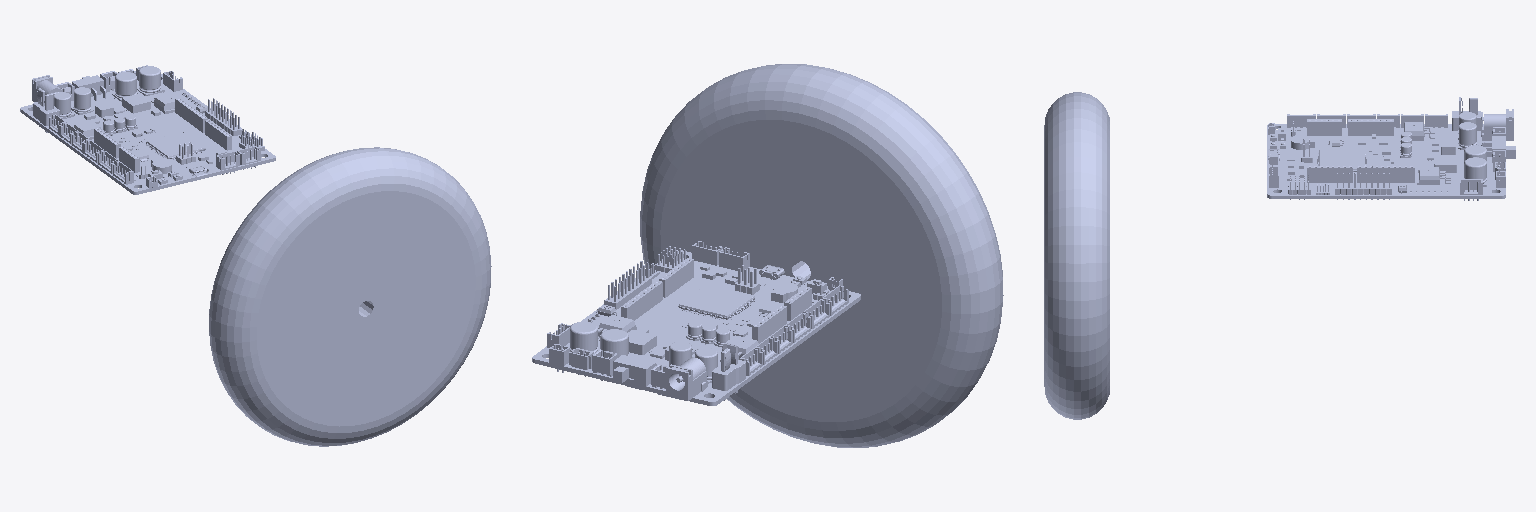
URDF robot description (어셈블리1):
<?xml version="1.0" encoding="utf-8"?>
<!-- This URDF was automatically created by SolidWorks to URDF Exporter! Originally created by [author] ([email redacted]) 
     Commit Version: 1.6.0-1-g15f4949  Build Version: 1.6.7594.29634
     For more information, please see http://wiki.ros.org/sw_urdf_exporter -->
<robot
  name="어셈블리1">
  <link
    name="base_link">
    <inertial>
      <origin
        xyz="-0.0132871229028094 -0.0190872156314789 -0.0165094953014788"
        rpy="0 0 0" />
      <mass
        value="3.79600627082132" />
      <inertia
        ixx="0.00950873308951061"
        ixy="-4.41730297888478E-05"
        ixz="-0.000344061860957029"
        iyy="0.015823556089242"
        iyz="-0.000165763768209665"
        izz="0.00921479103261655" />
    </inertial>
    <visual>
      <origin
        xyz="0 0 0"
        rpy="0 0 0" />
      <geometry>
        <mesh
          filename="package://어셈블리1/meshes/base_link.STL" />
      </geometry>
      <material
        name="">
        <color
          rgba="0.792156862745098 0.819607843137255 0.933333333333333 1" />
      </material>
    </visual>
    <collision>
      <origin
        xyz="0 0 0"
        rpy="0 0 0" />
      <geometry>
        <mesh
          filename="package://어셈블리1/meshes/base_link.STL" />
      </geometry>
    </collision>
  </link>
  <link
    name="opencr_link">
    <inertial>
      <origin
        xyz="0.0180007095539802 -0.018114560187332 -0.00970352267675567"
        rpy="0 0 0" />
      <mass
        value="5.55801093857231" />
      <inertia
        ixx="0.0702910169590417"
        ixy="0.00177365412889999"
        ixz="-0.00174438824817206"
        iyy="0.0556214725394112"
        iyz="7.33898971713756E-05"
        izz="0.0859284870938966" />
    </inertial>
    <visual>
      <origin
        xyz="0 0 0"
        rpy="0 0 0" />
      <geometry>
        <mesh
          filename="package://어셈블리1/meshes/opencr_link.STL" />
      </geometry>
      <material
        name="">
        <color
          rgba="0.792156862745098 0.819607843137255 0.933333333333333 1" />
      </material>
    </visual>
    <collision>
      <origin
        xyz="0 0 0"
        rpy="0 0 0" />
      <geometry>
        <mesh
          filename="package://어셈블리1/meshes/opencr_link.STL" />
      </geometry>
    </collision>
  </link>
  <joint
    name="opencr_joint"
    type="fixed">
    <origin
      xyz="0 0 0"
      rpy="0 0 -3.1416" />
    <parent
      link="base_link" />
    <child
      link="opencr_link" />
    <axis
      xyz="0 0 0" />
  </joint>
  <link
    name="lidar_link">
    <inertial>
      <origin
        xyz="1.3394E-08 1.1116E-09 0.029386"
        rpy="0 0 0" />
      <mass
        value="0.13177" />
      <inertia
        ixx="6.9567E-05"
        ixy="-9.5937E-12"
        ixz="-5.2972E-11"
        iyy="6.9567E-05"
        iyz="-4.3961E-12"
        izz="4.4764E-05" />
    </inertial>
    <visual>
      <origin
        xyz="0 0 0"
        rpy="0 0 0" />
      <geometry>
        <mesh
          filename="package://어셈블리1/meshes/lidar_link.STL" />
      </geometry>
      <material
        name="">
        <color
          rgba="0.79216 0.81961 0.93333 1" />
      </material>
    </visual>
    <collision>
      <origin
        xyz="0 0 0"
        rpy="0 0 0" />
      <geometry>
        <mesh
          filename="package://어셈블리1/meshes/lidar_link.STL" />
      </geometry>
    </collision>
  </link>
  <joint
    name="lidar_joint"
    type="fixed">
    <origin
      xyz="-0.035043 0.0083315 0.077"
      rpy="0 0 0" />
    <parent
      link="base_link" />
    <child
      link="lidar_link" />
    <axis
      xyz="0 0 0" />
  </joint>
  <link
    name="camera_link">
    <inertial>
      <origin
        xyz="-6.5919E-17 -2.4587E-10 0.0165"
        rpy="0 0 0" />
      <mass
        value="0.16688" />
      <inertia
        ixx="2.7222E-05"
        ixy="-2.5726E-19"
        ixz="-3.9561E-19"
        iyy="0.00041211"
        iyz="4.5682E-14"
        izz="0.00040904" />
    </inertial>
    <visual>
      <origin
        xyz="0 0 0"
        rpy="0 0 0" />
      <geometry>
        <mesh
          filename="package://어셈블리1/meshes/camera_link.STL" />
      </geometry>
      <material
        name="">
        <color
          rgba="0.79216 0.81961 0.93333 1" />
      </material>
    </visual>
    <collision>
      <origin
        xyz="0 0 0"
        rpy="0 0 0" />
      <geometry>
        <mesh
          filename="package://어셈블리1/meshes/camera_link.STL" />
      </geometry>
    </collision>
  </link>
  <joint
    name="camera_joint"
    type="fixed">
    <origin
      xyz="-0.13404 0.0083315 0.092"
      rpy="-1.5708 0 1.5708" />
    <parent
      link="base_link" />
    <child
      link="camera_link" />
    <axis
      xyz="0 0 0" />
  </joint>
  <link
    name="left_wheel_link">
    <inertial>
      <origin
        xyz="-4.54497550705923E-16 1.79717352111197E-15 0.0145"
        rpy="0 0 0" />
      <mass
        value="0.431849530870227" />
      <inertia
        ixx="0.000547310482911071"
        ixy="-8.13151629364128E-20"
        ixz="-5.76064820844141E-20"
        iyy="0.000547310482911071"
        iyz="1.70985068972411E-19"
        izz="0.00103898710950625" />
    </inertial>
    <visual>
      <origin
        xyz="0 0 0"
        rpy="0 0 0" />
      <geometry>
        <mesh
          filename="package://어셈블리1/meshes/left_wheel_link.STL" />
      </geometry>
      <material
        name="">
        <color
          rgba="0.792156862745098 0.819607843137255 0.933333333333333 1" />
      </material>
    </visual>
    <collision>
      <origin
        xyz="0 0 0"
        rpy="0 0 0" />
      <geometry>
        <mesh
          filename="package://어셈블리1/meshes/left_wheel_link.STL" />
      </geometry>
    </collision>
  </link>
  <joint
    name="left_wheel_joint"
    type="continuous">
    <origin
      xyz="0.027457 -0.12147 -0.0339"
      rpy="-1.5708 0.62286 -3.1416" />
    <parent
      link="base_link" />
    <child
      link="left_wheel_link" />
    <axis
      xyz="0 0 1" />
  </joint>
  <link
    name="right_wheel_link">
    <inertial>
      <origin
        xyz="1.40859546249317E-15 7.97972798949331E-16 -0.0145000000000001"
        rpy="0 0 0" />
      <mass
        value="0.431849530870227" />
      <inertia
        ixx="0.000547310482911071"
        ixy="-8.470329472543E-22"
        ixz="2.71760685640883E-19"
        iyy="0.000547310482911071"
        iyz="-6.44834273233266E-19"
        izz="0.00103898710950625" />
    </inertial>
    <visual>
      <origin
        xyz="0 0 0"
        rpy="0 0 0" />
      <geometry>
        <mesh
          filename="package://어셈블리1/meshes/right_wheel_link.STL" />
      </geometry>
      <material
        name="">
        <color
          rgba="0.792156862745098 0.819607843137255 0.933333333333333 1" />
      </material>
    </visual>
    <collision>
      <origin
        xyz="0 0 0"
        rpy="0 0 0" />
      <geometry>
        <mesh
          filename="package://어셈블리1/meshes/right_wheel_link.STL" />
      </geometry>
    </collision>
  </link>
  <joint
    name="right_wheel_joint"
    type="continuous">
    <origin
      xyz="0.027457 0.13813 -0.0339"
      rpy="1.5708 -0.0072638 0" />
    <parent
      link="base_link" />
    <child
      link="right_wheel_link" />
    <axis
      xyz="0 0 1" />
  </joint>
  <link
    name="front_link">
    <inertial>
      <origin
        xyz="-0.102550444822188 0.0186362763099482 -0.0499420238037555"
        rpy="0 0 0" />
      <mass
        value="0.273534418315027" />
      <inertia
        ixx="0.00033404367279413"
        ixy="-5.02928734296123E-07"
        ixz="1.34776273983535E-06"
        iyy="0.000793983435909688"
        iyz="6.47618301935972E-05"
        izz="0.000552792585022654" />
    </inertial>
    <visual>
      <origin
        xyz="0 0 0"
        rpy="0 0 0" />
      <geometry>
        <mesh
          filename="package://어셈블리1/meshes/front_link.STL" />
      </geometry>
      <material
        name="">
        <color
          rgba="0.792156862745098 0.819607843137255 0.933333333333333 1" />
      </material>
    </visual>
    <collision>
      <origin
        xyz="0 0 0"
        rpy="0 0 0" />
      <geometry>
        <mesh
          filename="package://어셈블리1/meshes/front_link.STL" />
      </geometry>
    </collision>
  </link>
  <joint
    name="front_joint"
    type="revolute">
    <origin
      xyz="-0.15554 0 -0.06"
      rpy="2.7286 0 -1.5708" />
    <parent
      link="base_link" />
    <child
      link="front_link" />
    <axis
      xyz="1 0 0" />
    <limit
      lower="0"
      upper="0"
      effort="0"
      velocity="0" />
  </joint>
  <link
    name="feed_link">
    <inertial>
      <origin
        xyz="-0.0165698438786769 2.44249065417534E-15 0.000749999999999952"
        rpy="0 0 0" />
      <mass
        value="0.00143426215563702" />
      <inertia
        ixx="5.89380670397772E-08"
        ixy="3.03575115170312E-20"
        ixz="-5.94102382536487E-22"
        iyy="2.65747442341081E-07"
        iyz="-5.26615014644146E-23"
        izz="3.24147661072495E-07" />
    </inertial>
    <visual>
      <origin
        xyz="0 0 0"
        rpy="0 0 0" />
      <geometry>
        <mesh
          filename="package://어셈블리1/meshes/feed_link.STL" />
      </geometry>
      <material
        name="">
        <color
          rgba="0.792156862745098 0.819607843137255 0.933333333333333 1" />
      </material>
    </visual>
    <collision>
      <origin
        xyz="0 0 0"
        rpy="0 0 0" />
      <geometry>
        <mesh
          filename="package://어셈블리1/meshes/feed_link.STL" />
      </geometry>
    </collision>
  </link>
  <joint
    name="feed_joint"
    type="revolute">
    <origin
      xyz="0.055457 -0.053668 0.0483"
      rpy="0 0 -1.5706" />
    <parent
      link="base_link" />
    <child
      link="feed_link" />
    <axis
      xyz="0 0 1" />
    <limit
      lower="0"
      upper="0"
      effort="0"
      velocity="0" />
  </joint>
  <link
    name="back_link">
    <inertial>
      <origin
        xyz="-0.00159581425708959 -0.00219319750044118 -0.0452663377943654"
        rpy="0 0 0" />
      <mass
        value="0.123674446484502" />
      <inertia
        ixx="0.000154119408139331"
        ixy="-1.99217286118724E-07"
        ixz="-4.10671960339738E-06"
        iyy="0.0003923074275057"
        iyz="-1.15250552157468E-05"
        izz="0.000264072633501366" />
    </inertial>
    <visual>
      <origin
        xyz="0 0 0"
        rpy="0 0 0" />
      <geometry>
        <mesh
          filename="package://어셈블리1/meshes/back_link.STL" />
      </geometry>
      <material
        name="">
        <color
          rgba="0.792156862745098 0.819607843137255 0.933333333333333 1" />
      </material>
    </visual>
    <collision>
      <origin
        xyz="0 0 0"
        rpy="0 0 0" />
      <geometry>
        <mesh
          filename="package://어셈블리1/meshes/back_link.STL" />
      </geometry>
    </collision>
  </link>
  <joint
    name="back_joint"
    type="revolute">
    <origin
      xyz="0.085457 0 -0.06"
      rpy="-3.1275 0 -1.5708" />
    <parent
      link="base_link" />
    <child
      link="back_link" />
    <axis
      xyz="1 0 0" />
    <limit
      lower="0"
      upper="0"
      effort="0"
      velocity="0" />
  </joint>
</robot>

--- What the picture shows (computed from the rendered views, not written in the file) ---
The picture shows the robot from 3 angles, left to right: view 1: azimuth 30°, elevation 25°; view 2: azimuth 150°, elevation 25°; view 3: azimuth 270°, elevation 25°; orthographic projection.
Model 어셈블리1 with 9 links and 8 joints (3 revolute, 2 continuous, 3 fixed), rooted at base_link, posed every joint at zero.
Links seen in each view (by area): view 1: left_wheel_link, opencr_link; view 2: left_wheel_link, opencr_link; view 3: left_wheel_link, opencr_link.
Boxes of the visible links, left/top/right/bottom form: left_wheel_link: left=209, top=147, right=491, bottom=446; opencr_link: left=20, top=65, right=275, bottom=194; left_wheel_link: left=640, top=64, right=1003, bottom=447; opencr_link: left=532, top=241, right=860, bottom=405; left_wheel_link: left=1044, top=92, right=1109, bottom=419; opencr_link: left=1267, top=97, right=1515, bottom=200.
Size in the robot's own frame: 0.1437 by 0.207 by 0.1438 metres.
Meshes: 9 distinct files referenced, 2 mesh visuals loaded (2 binary STL); not drawn: 7 (reference not matched to a file when rendering).